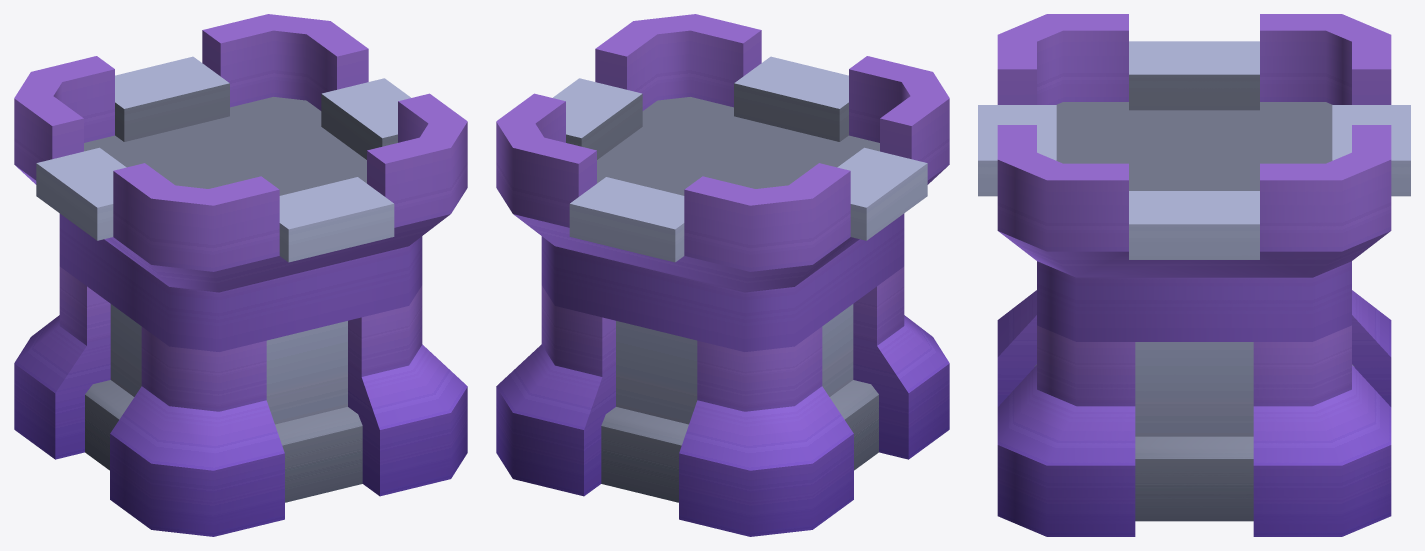
Rendered from tower-square-build-b.glb.
The picture shows the model from 3 angles, left to right: view 1: azimuth 30°, elevation 25°; view 2: azimuth 150°, elevation 25°; view 3: azimuth 270°, elevation 25°; orthographic projection. The views are drawn at different scales.
Parts seen in each view (by area): view 1: tower-square-build-b; view 2: tower-square-build-b; view 3: tower-square-build-b.
Boxes of the visible parts, box(x1,y1,x2,y2) form: tower-square-build-b: box(14, 14, 467, 536); tower-square-build-b: box(496, 14, 949, 536); tower-square-build-b: box(978, 14, 1410, 536).
Bounding box in the file's own units: 1.1 × 1 × 1.1.
1 material, 1 textured.
